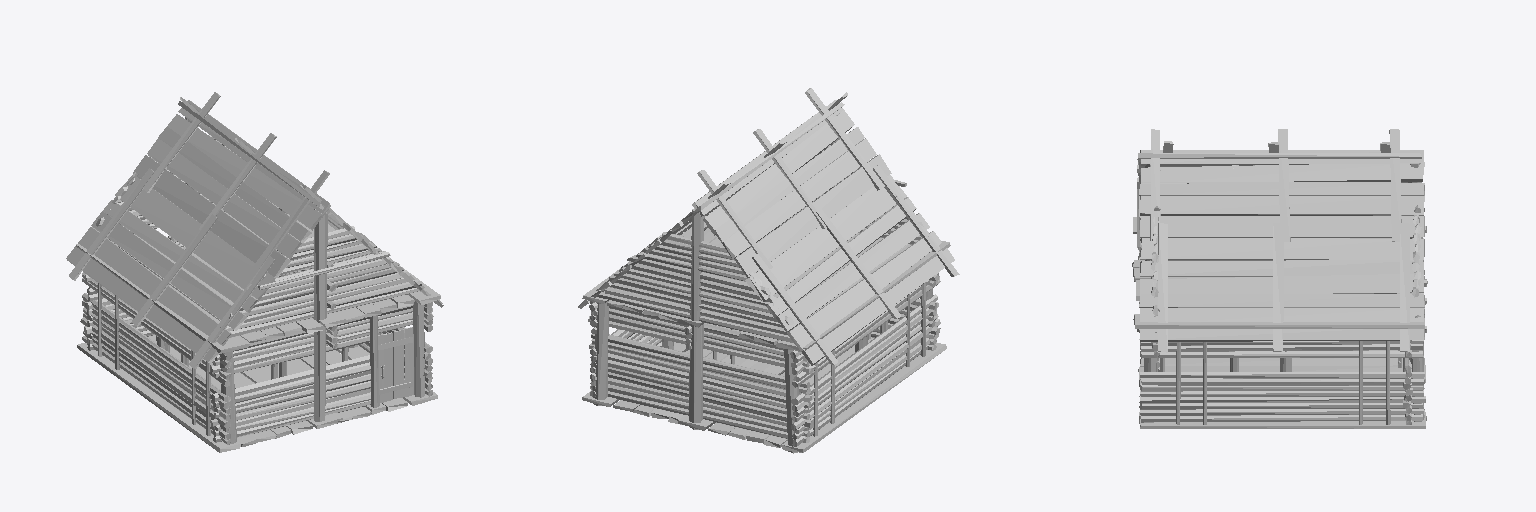
The model's file is forest_cabin_LOD1.obj.
The picture shows the model from 3 angles: view 1: azimuth 30°, elevation 25°; view 2: azimuth 150°, elevation 25°; view 3: azimuth 270°, elevation 25°; orthographic projection.
Visible parts, largest first — view 1: barn.034_Cube.032, barn.028_Cube.029; view 2: barn.034_Cube.032; view 3: barn.034_Cube.032.
Part boxes in pixels (bbox=[...]): barn.034_Cube.032: bbox=[66, 92, 443, 452]; barn.028_Cube.029: bbox=[378, 327, 413, 402]; barn.034_Cube.032: bbox=[578, 88, 959, 453]; barn.034_Cube.032: bbox=[1132, 129, 1427, 428].
Size of the model in its own units: 30.92 by 28.33 by 31.13.